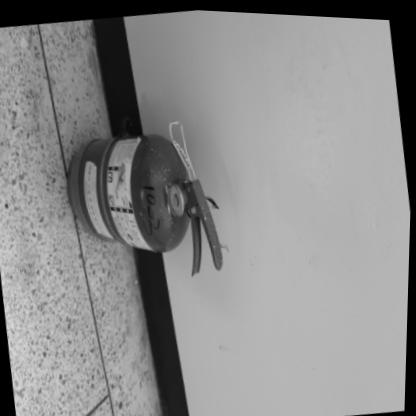FE: (58, 124, 226, 285)
